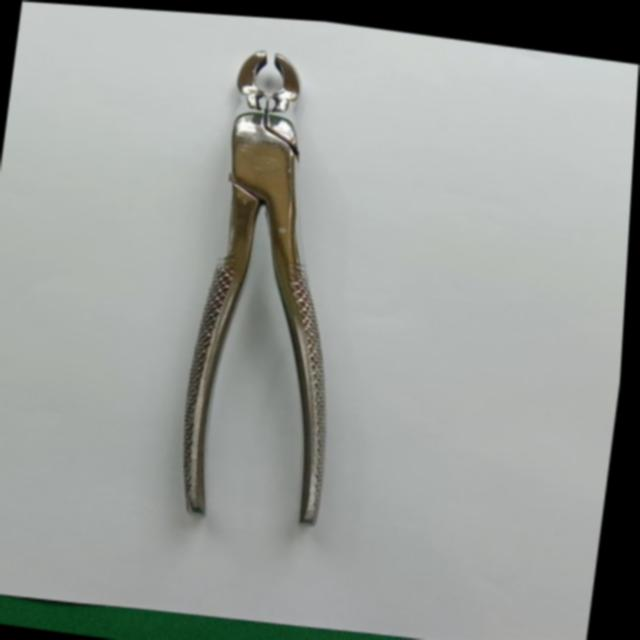BayonetForcep: (147, 36, 398, 535)
